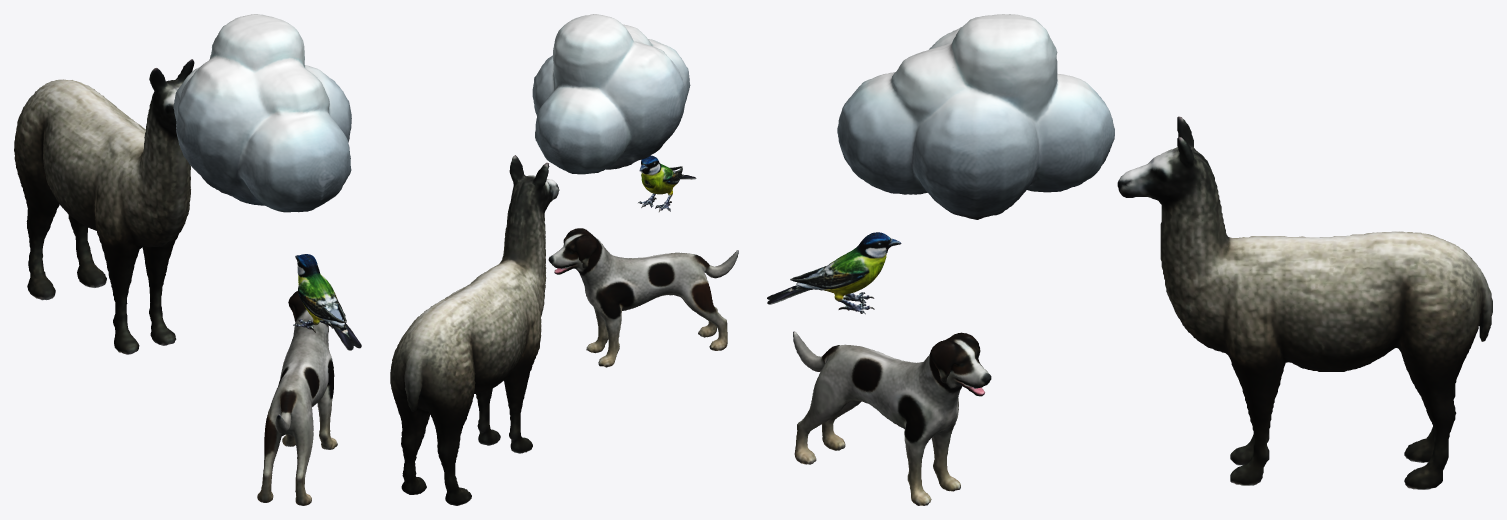
Rendered from llama1.glb.
The picture shows the model from 3 angles, left to right: view 1: azimuth 30°, elevation 25°; view 2: azimuth 150°, elevation 25°; view 3: azimuth 270°, elevation 25°; orthographic projection. The views are drawn at different scales.
Parts seen in each view (by area): view 1: Mesh_0.004, Mesh_0, Mesh_0.001, Mesh_0.002; view 2: Mesh_0.004, Mesh_0, Mesh_0.001, Mesh_0.002; view 3: Mesh_0.004, Mesh_0, Mesh_0.001, Mesh_0.002.
Boxes of the visible parts, left/top/right/bottom form: Mesh_0.004: left=14, top=59, right=194, bottom=354; Mesh_0: left=173, top=14, right=351, bottom=212; Mesh_0.001: left=257, top=291, right=337, bottom=505; Mesh_0.002: left=293, top=254, right=361, bottom=350; Mesh_0.004: left=390, top=155, right=559, bottom=505; Mesh_0: left=532, top=14, right=690, bottom=174; Mesh_0.001: left=548, top=228, right=738, bottom=367; Mesh_0.002: left=638, top=155, right=696, bottom=211; Mesh_0.004: left=1117, top=116, right=1492, bottom=489; Mesh_0: left=837, top=14, right=1114, bottom=219; Mesh_0.001: left=793, top=331, right=991, bottom=505; Mesh_0.002: left=767, top=232, right=901, bottom=314.
Bounding box in the file's own units: 11.18 × 27.16 × 38.63.
Materials: 4 (4 with a texture image).
